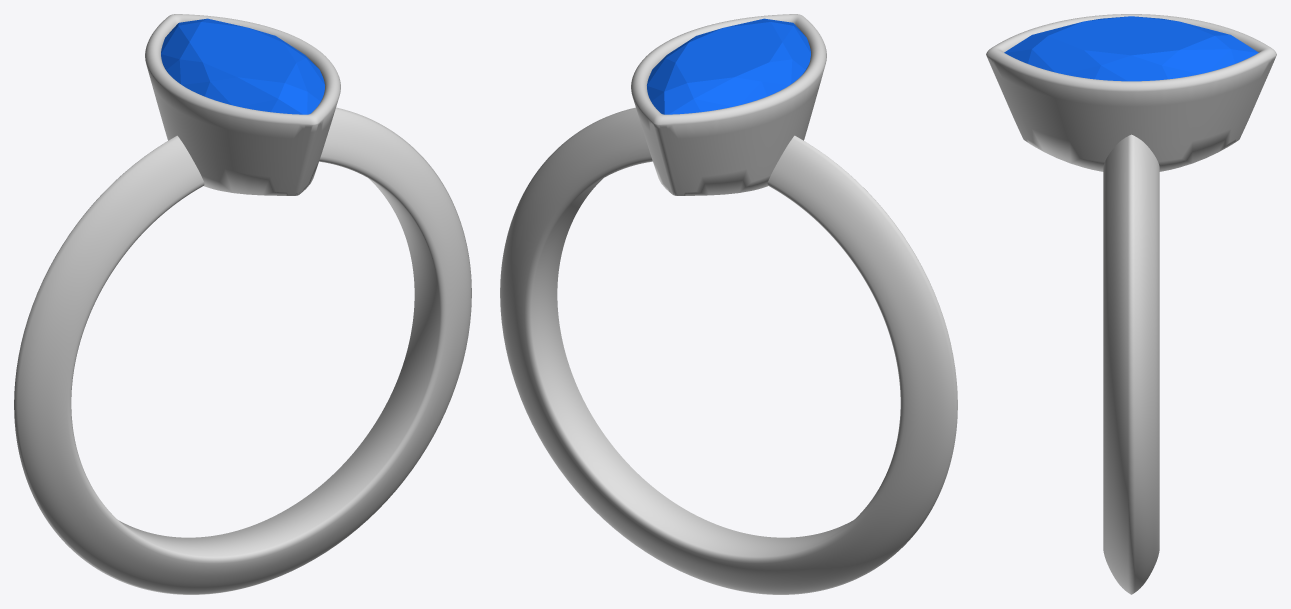
File: bluesapphire-marquise-platinum-bezelset-knifeedge-nosidestones.glb
The picture shows the model from 3 angles, left to right: view 1: azimuth 30°, elevation 25°; view 2: azimuth 150°, elevation 25°; view 3: azimuth 270°, elevation 25°; orthographic projection.
Parts seen in each view (by area): view 1: metal.005, stone; view 2: metal.005, stone; view 3: metal.005, stone.
Part boxes in pixels (left/top/right/bottom): metal.005: left=14, top=14, right=471, bottom=594; stone: left=161, top=18, right=324, bottom=114; metal.005: left=500, top=14, right=957, bottom=594; stone: left=647, top=18, right=810, bottom=114; metal.005: left=986, top=14, right=1276, bottom=594; stone: left=1004, top=16, right=1258, bottom=81.
Bounding box in the file's own units: 20.49 × 22.93 × 11.31.
